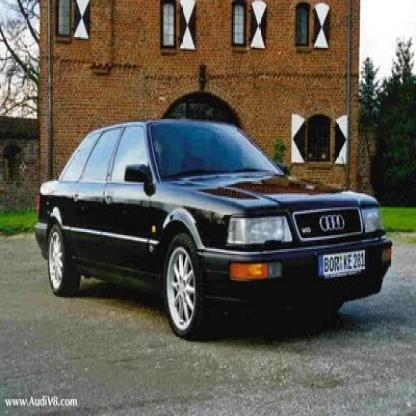car: (29, 109, 407, 369)
